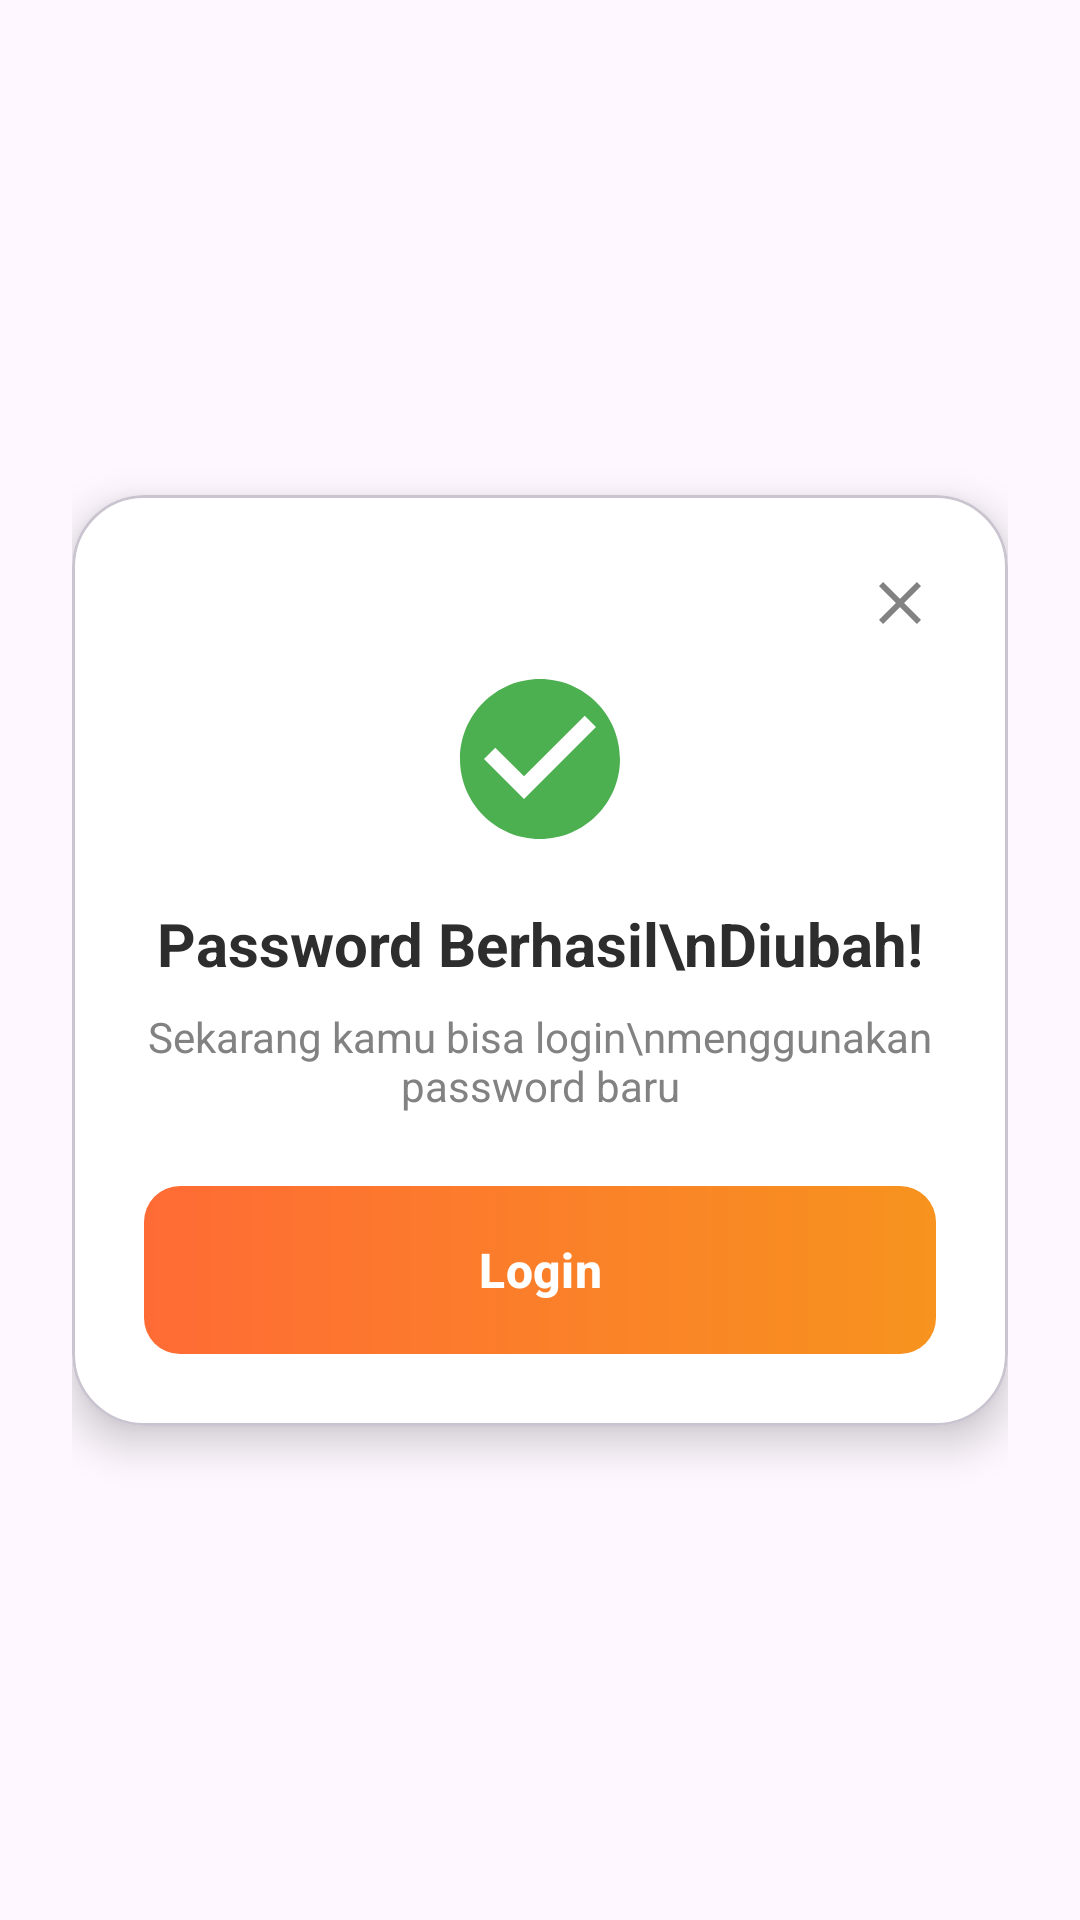

Screen size 1080×1920. Icon name, then its center in pixels as point (x, y):
check circle: point (540, 759)
close: point (900, 603)
